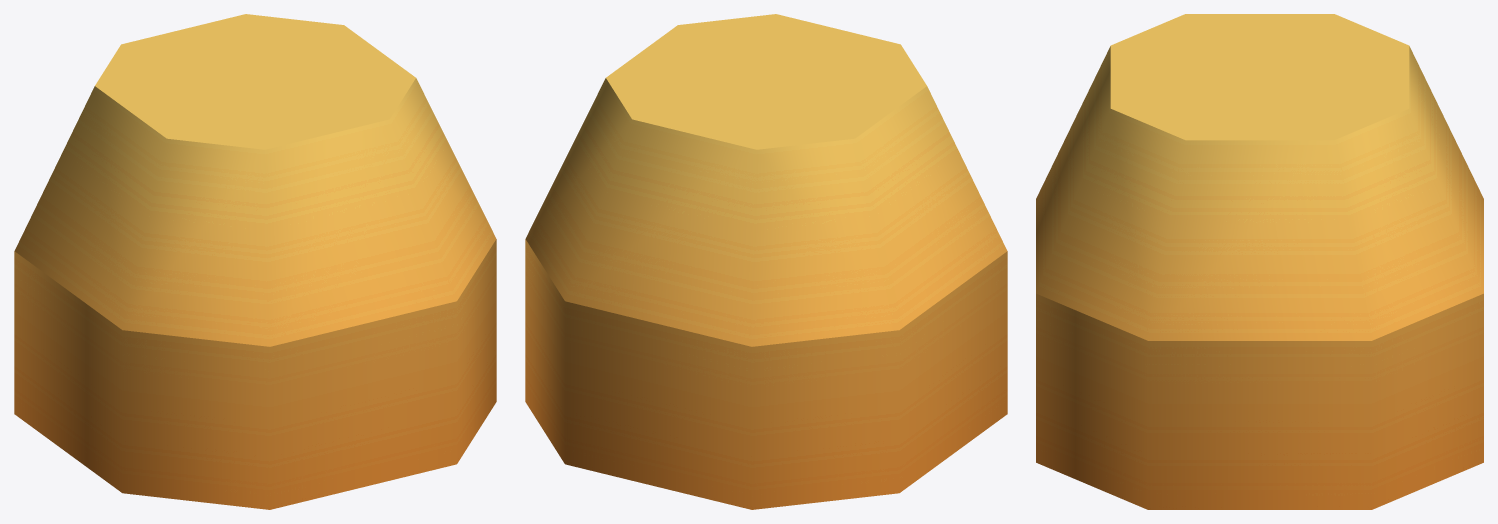
File: support-color-single-bottom.glb
3 views of the same model, side by side, from view 1: azimuth 30°, elevation 25°; view 2: azimuth 150°, elevation 25°; view 3: azimuth 270°, elevation 25° (orthographic). The views are drawn at different scales.
Parts seen in each view (by area): view 1: support-color-single-bottom; view 2: support-color-single-bottom; view 3: support-color-single-bottom.
Boxes of the visible parts, x1,y1,x2,y2 form: support-color-single-bottom: (14,14,496,509); support-color-single-bottom: (525,14,1007,509); support-color-single-bottom: (1036,14,1483,509).
Bounding box in the file's own units: 0.6 × 0.5 × 0.6.
1 material, 1 textured.
